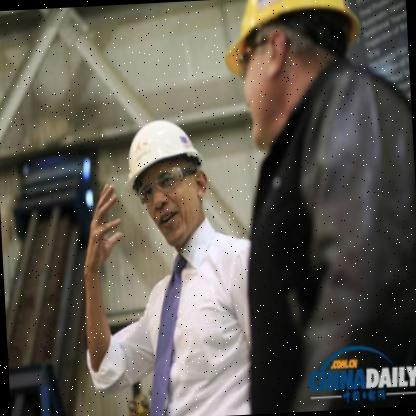capacete: (213, 0, 371, 82), (120, 116, 206, 192)
oculos: (130, 162, 199, 207)
